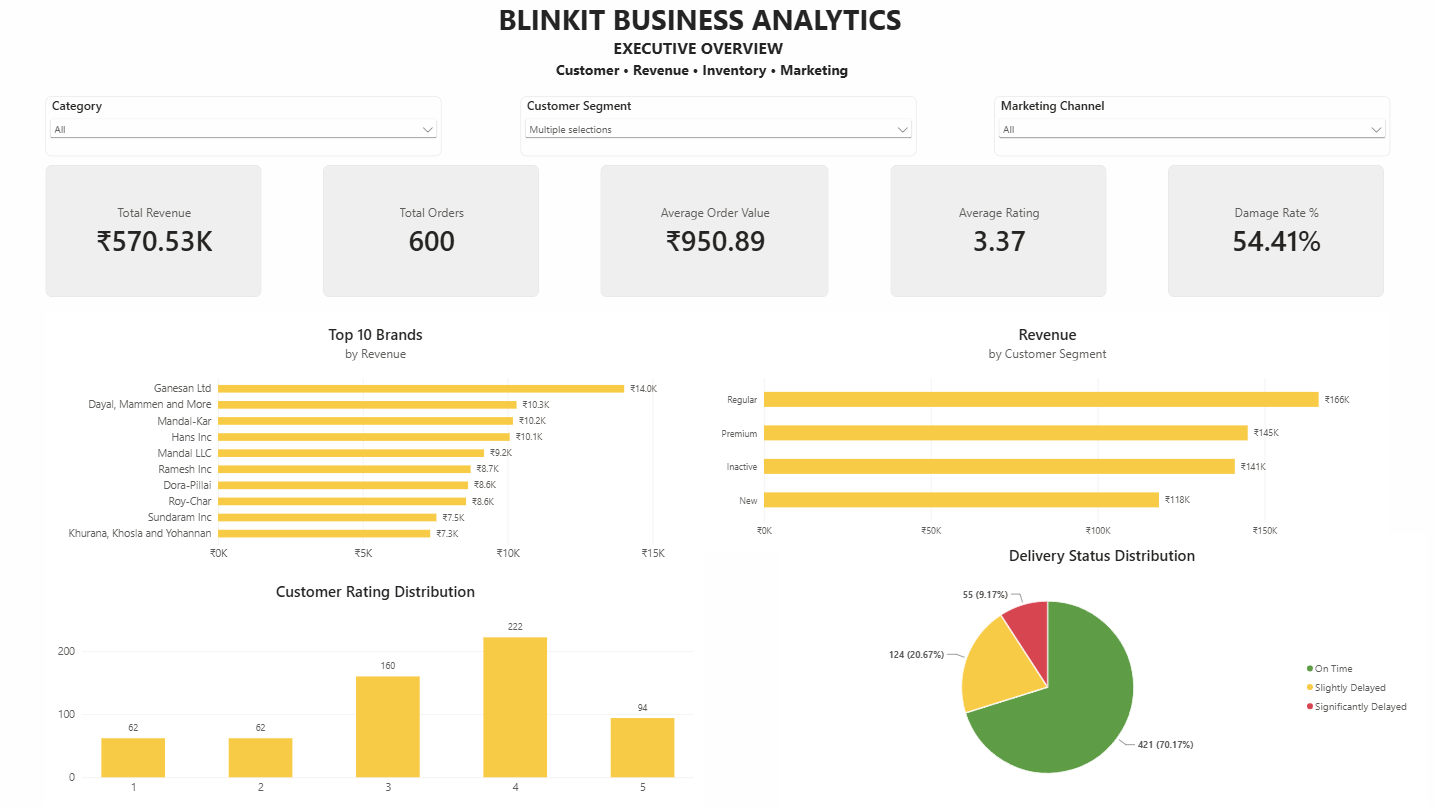

What the dashboard file says about the page in this screenshot:
{"tool":"powerbi","page":{"name":"Executive Overview","canvas":[1920,1080],"ordinal":0},"visuals":[{"type":"cardVisual","fields":{"Data":["blinkit_orders.Total Revenue"]},"box":[64,219.2,288,176],"z":0},{"type":"cardVisual","fields":{"Data":["blinkit_orders.Total Orders"]},"box":[434,219.2,288,176],"z":1000},{"type":"cardVisual","fields":{"Data":["blinkit_orders.Average Order Value"]},"box":[804,219.2,304,176],"z":2000},{"type":"cardVisual","fields":{"Data":["blinkit_orders.Average Rating"]},"box":[1190,219.2,288,176],"z":3000},{"type":"slicer","fields":{"Values":["blinkit_products.category"]},"box":[64,128,528,80],"z":4000},{"type":"slicer","fields":{"Values":["blinkit_customers.customer_segment"]},"box":[696,128,528,80],"z":5000},{"type":"slicer","fields":{"Values":["blinkit_marketing_performance.channel"]},"box":[1328,128,528,80],"z":6000},{"type":"barChart","fields":{"Category":["blinkit_products.brand"],"Y":["blinkit_orders.Total Revenue"]},"box":[64,416,880,352],"z":7000},{"type":"clusteredBarChart","fields":{"Category":["blinkit_customers.customer_segment"],"Y":["blinkit_orders.Total Revenue"]},"box":[944,416,912,320],"z":8000},{"type":"pieChart","title":"Delivery Status Distribution","fields":{"Category":["blinkit_delivery_performance.delivery_status"],"Y":["CountNonNull(blinkit_order_items.order_id)"]},"box":[1040,712,864,368],"z":9000},{"type":"cardVisual","fields":{"Data":["blinkit_orders.Damage Rate %"]},"box":[1560,219.2,288,176],"z":10000},{"type":"textbox","box":[0,0,1872,80],"z":11000},{"type":"textbox","box":[101.3,48,1664,64],"z":12000},{"type":"textbox","box":[61.3,80,1744,64],"z":13000},{"type":"columnChart","title":"Customer Rating  Distribution","fields":{"Category":["blinkit_customer_feedback.rating"],"Y":["blinkit_customer_feedback.Total Reviews"]},"box":[64,760,880,320],"z":14000}]}

Visuals, with their boxes in screenshot pixels (x1, y1, x2, y2), scaled from the page's 1920x1080 canvas onto the 1437x807 screenshot:
cardVisual - blinkit_orders.Total Revenue: <region>48, 164, 263, 295</region>
cardVisual - blinkit_orders.Total Orders: <region>325, 164, 540, 295</region>
cardVisual - blinkit_orders.Average Order Value: <region>602, 164, 829, 295</region>
cardVisual - blinkit_orders.Average Rating: <region>891, 164, 1106, 295</region>
slicer - blinkit_products.category: <region>48, 96, 443, 155</region>
slicer - blinkit_customers.customer_segment: <region>521, 96, 916, 155</region>
slicer - blinkit_marketing_performance.channel: <region>994, 96, 1389, 155</region>
barChart - blinkit_products.brand x blinkit_orders.Total Revenue: <region>48, 311, 707, 574</region>
clusteredBarChart - blinkit_customers.customer_segment x blinkit_orders.Total Revenue: <region>707, 311, 1389, 550</region>
"Delivery Status Distribution" pieChart: <region>778, 532, 1425, 806</region>
cardVisual - blinkit_orders.Damage Rate %: <region>1168, 164, 1383, 295</region>
textbox: <region>0, 0, 1401, 60</region>
textbox: <region>76, 36, 1321, 84</region>
textbox: <region>46, 60, 1351, 108</region>
"Customer Rating  Distribution" columnChart: <region>48, 568, 707, 806</region>
